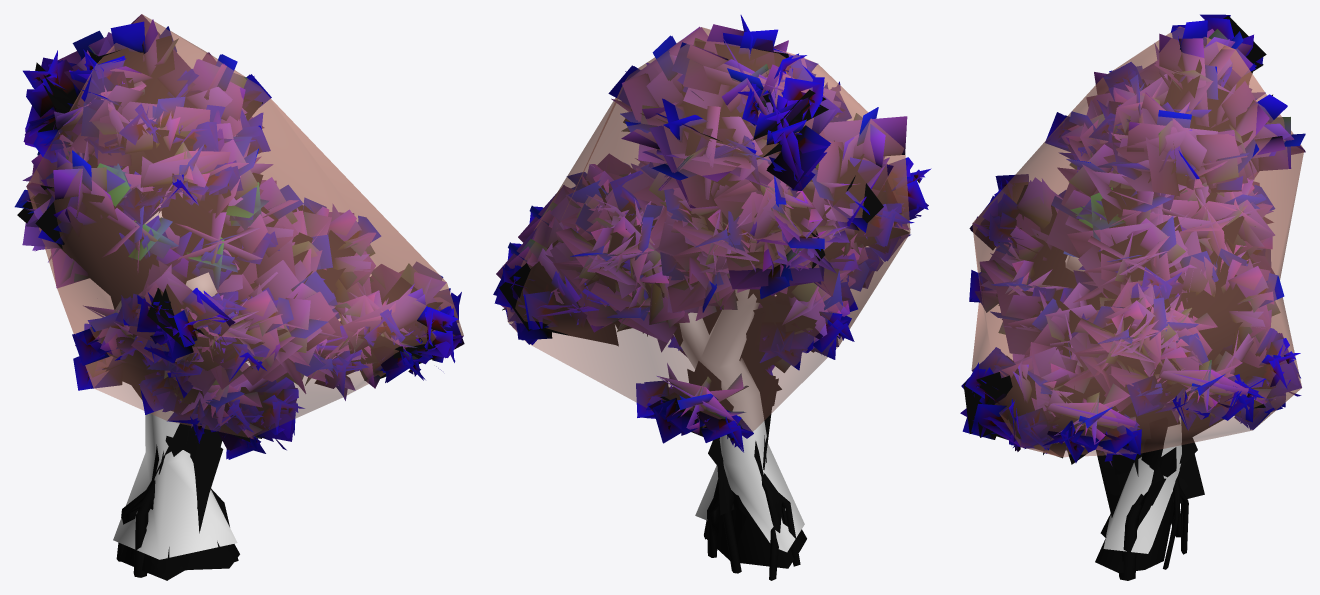
Rendered from tree_oak_large_a.dae.
3 views of the same model, side by side, from view 1: azimuth 30°, elevation 25°; view 2: azimuth 150°, elevation 25°; view 3: azimuth 270°, elevation 25° (orthographic). The views are drawn at different scales.
Visible parts, largest first — view 1: Colmesh_large_01-1, OakLarge_01_a2300, OakLarge_01_a700, OakLarge_01_a1200; view 2: Colmesh_large_01-1, OakLarge_01_a2300, OakLarge_01_a700, OakLarge_01_a1200; view 3: Colmesh_large_01-1, OakLarge_01_a2300, OakLarge_01_a700, OakLarge_01_a1200.
Part boxes in pixels (left/top/right/bottom): Colmesh_large_01-1: left=26, top=14, right=463, bottom=559; OakLarge_01_a2300: left=14, top=15, right=461, bottom=580; OakLarge_01_a700: left=22, top=14, right=464, bottom=579; OakLarge_01_a1200: left=15, top=26, right=458, bottom=533; Colmesh_large_01-1: left=507, top=27, right=910, bottom=552; OakLarge_01_a2300: left=494, top=15, right=931, bottom=580; OakLarge_01_a700: left=493, top=15, right=928, bottom=576; OakLarge_01_a1200: left=499, top=29, right=909, bottom=515; Colmesh_large_01-1: left=971, top=26, right=1303, bottom=553; OakLarge_01_a2300: left=961, top=14, right=1305, bottom=580; OakLarge_01_a700: left=960, top=20, right=1305, bottom=572; OakLarge_01_a1200: left=963, top=15, right=1305, bottom=517.
Bounding box in the file's own units: 9.86 × 7.81 × 13.17.
